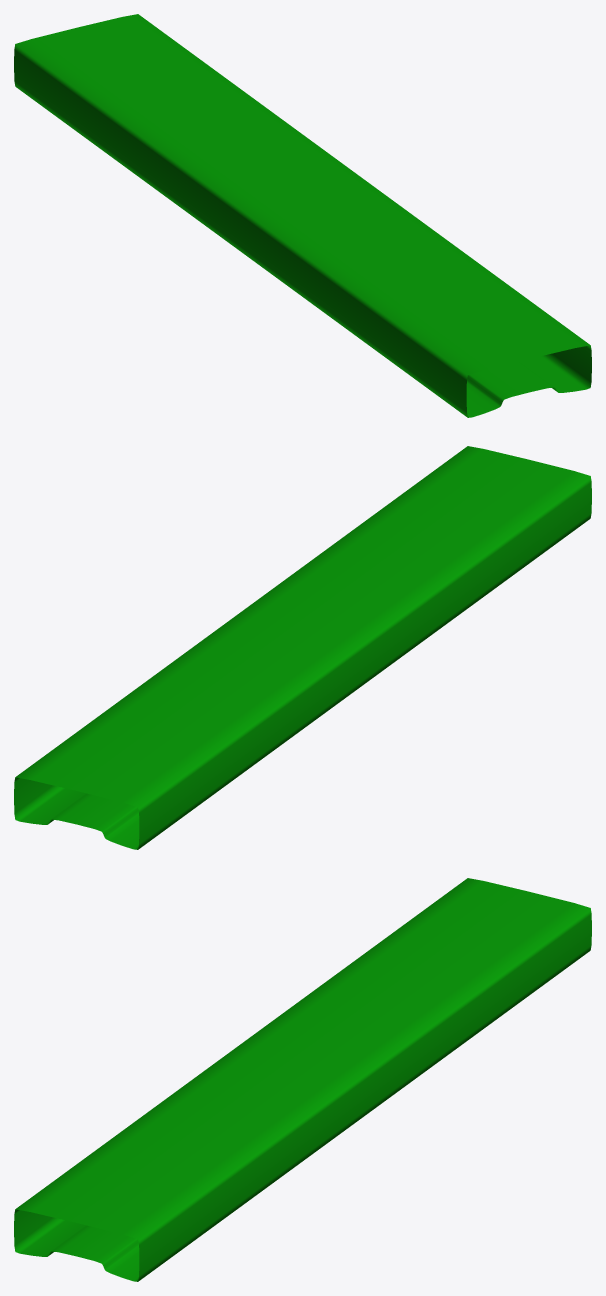
The model's file is TracksNotmoveRigModularStraight.fbx.
3 renders of one model, top to bottom at view 1: azimuth 30°, elevation 25°; view 2: azimuth 150°, elevation 25°; view 3: azimuth 330°, elevation 25°, orthographic.
Parts seen in each view (by area): view 1: NotmoveRigModularStraight; view 2: NotmoveRigModularStraight; view 3: NotmoveRigModularStraight.
Boxes of the visible parts, bbox=[...] form: NotmoveRigModularStraight: bbox=[14, 14, 591, 417]; NotmoveRigModularStraight: bbox=[14, 446, 591, 849]; NotmoveRigModularStraight: bbox=[14, 878, 591, 1281].
Bounding box in the file's own units: 14.22 × 4.83 × 88.91.
